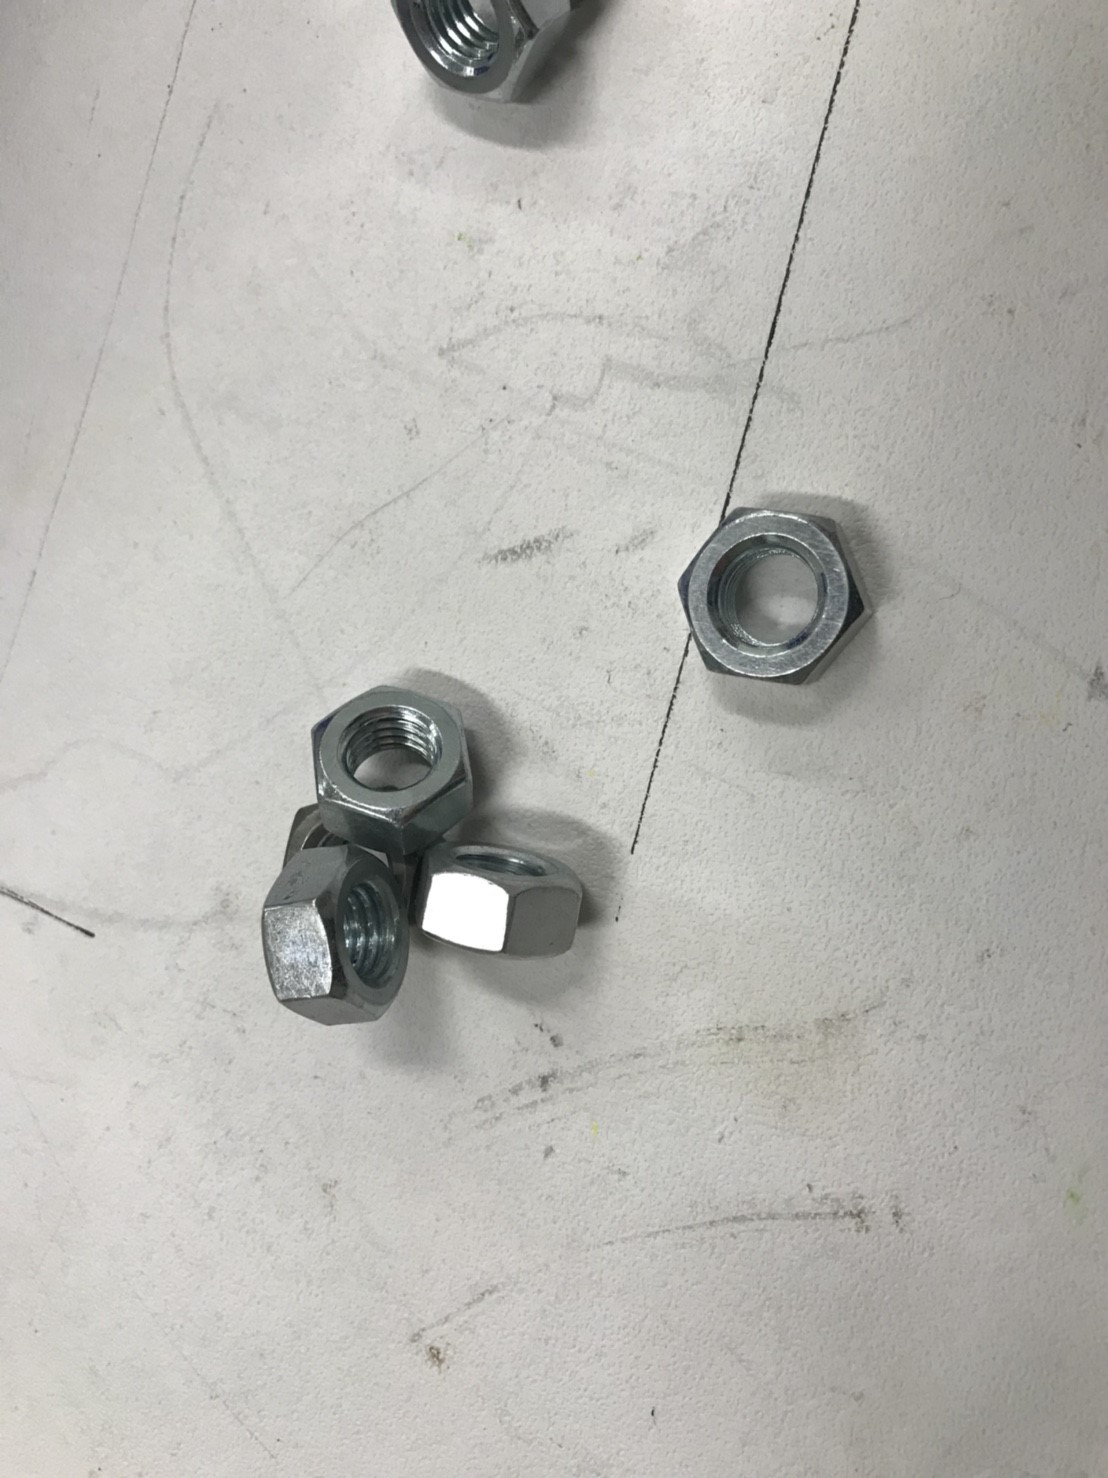nut: (672, 491, 885, 708), (301, 665, 496, 853), (264, 846, 424, 1031), (413, 847, 622, 980), (391, 1, 590, 111)
